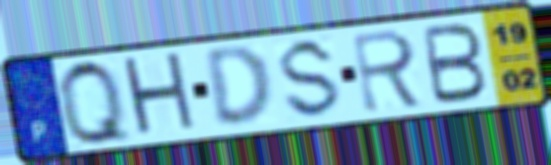B: (420, 21, 491, 107)
D: (201, 42, 277, 129)
H: (118, 49, 202, 142)
Q: (53, 56, 137, 148)
R: (349, 27, 429, 116)
S: (278, 35, 346, 122)
